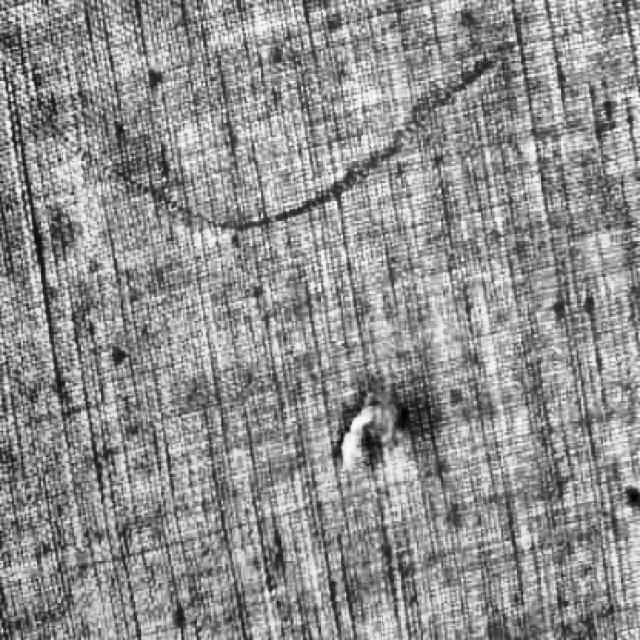objects: (321, 377, 432, 492)
thread_error: (8, 26, 522, 239)
